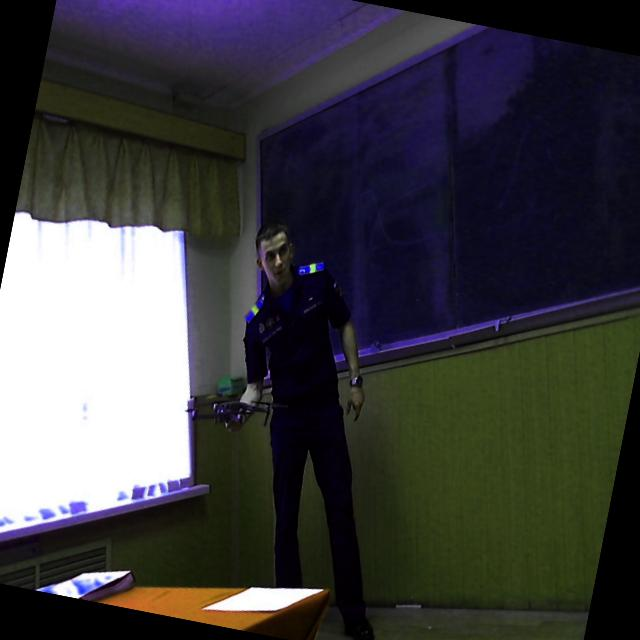drone: (176, 371, 298, 452)
